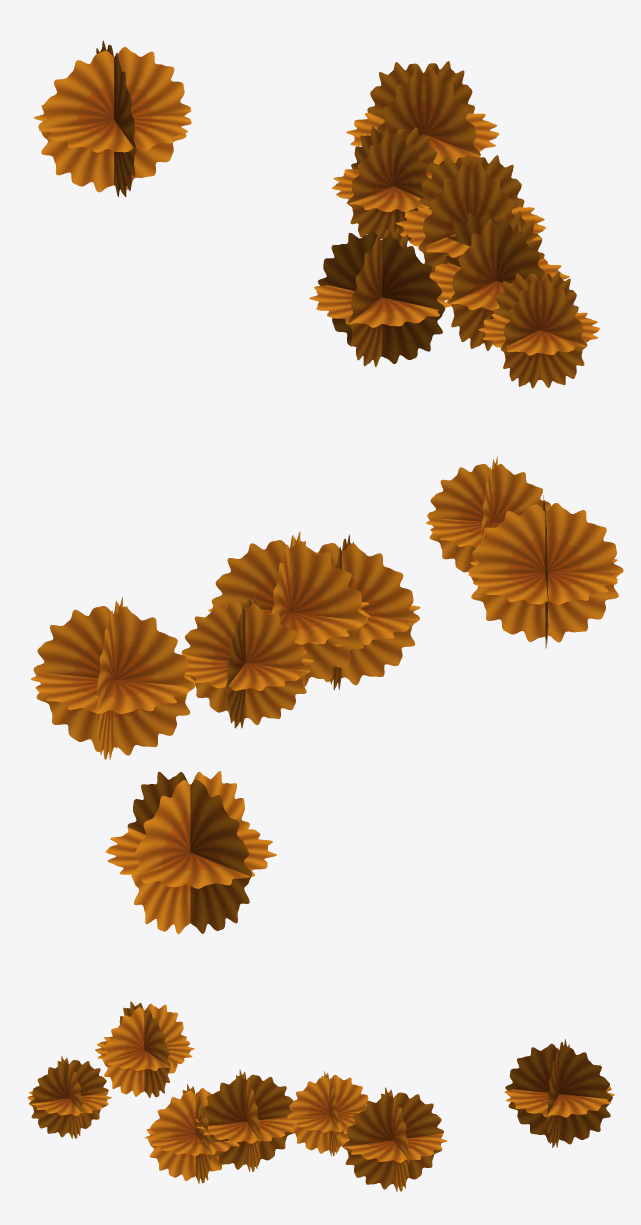
Rendered from racimo_cempasuchil.obj.
3 renders of one model, top to bottom at view 1: azimuth 30°, elevation 25°; view 2: azimuth 150°, elevation 25°; view 3: azimuth 270°, elevation 25°, orthographic. The views are drawn at different scales.
Visible parts, largest first — view 1: racimo_cempasuchil; view 2: racimo_cempasuchil; view 3: racimo_cempasuchil.
Boxes of the visible parts, bbox=[...] form: racimo_cempasuchil: bbox=[34, 40, 599, 388]; racimo_cempasuchil: bbox=[31, 456, 623, 934]; racimo_cempasuchil: bbox=[27, 1001, 614, 1191].
Size of the model in its own units: 0.4154 by 0.1896 by 0.8086.
Materials: 1 (1 with a texture image).
